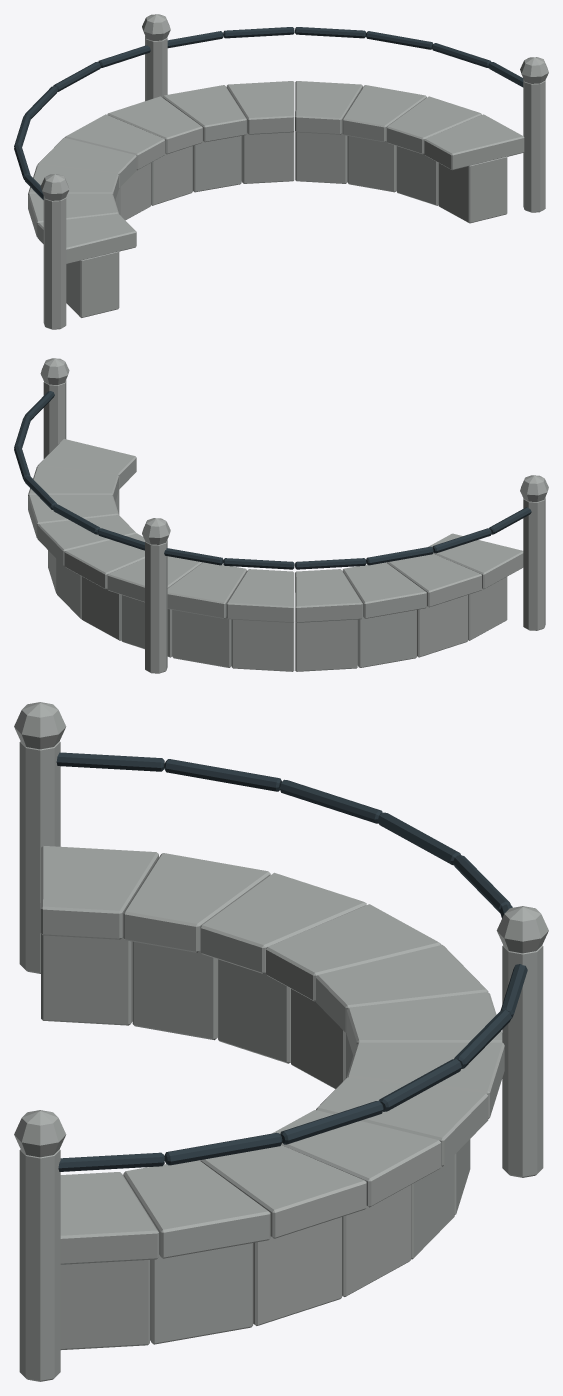
Rendered from b01_stone_semicircular_seat.glb.
3 renders of one model, top to bottom at view 1: azimuth 30°, elevation 25°; view 2: azimuth 150°, elevation 25°; view 3: azimuth 270°, elevation 25°, orthographic. The views are drawn at different scales.
Visible parts, largest first — view 1: b01_stone_semicircular_seat; view 2: b01_stone_semicircular_seat; view 3: b01_stone_semicircular_seat.
Part boxes in pixels (bbox=[...]): b01_stone_semicircular_seat: bbox=[14, 14, 548, 329]; b01_stone_semicircular_seat: bbox=[14, 358, 548, 673]; b01_stone_semicircular_seat: bbox=[14, 702, 548, 1381].
Bounding box in the file's own units: 3.5 × 1 × 1.84.
